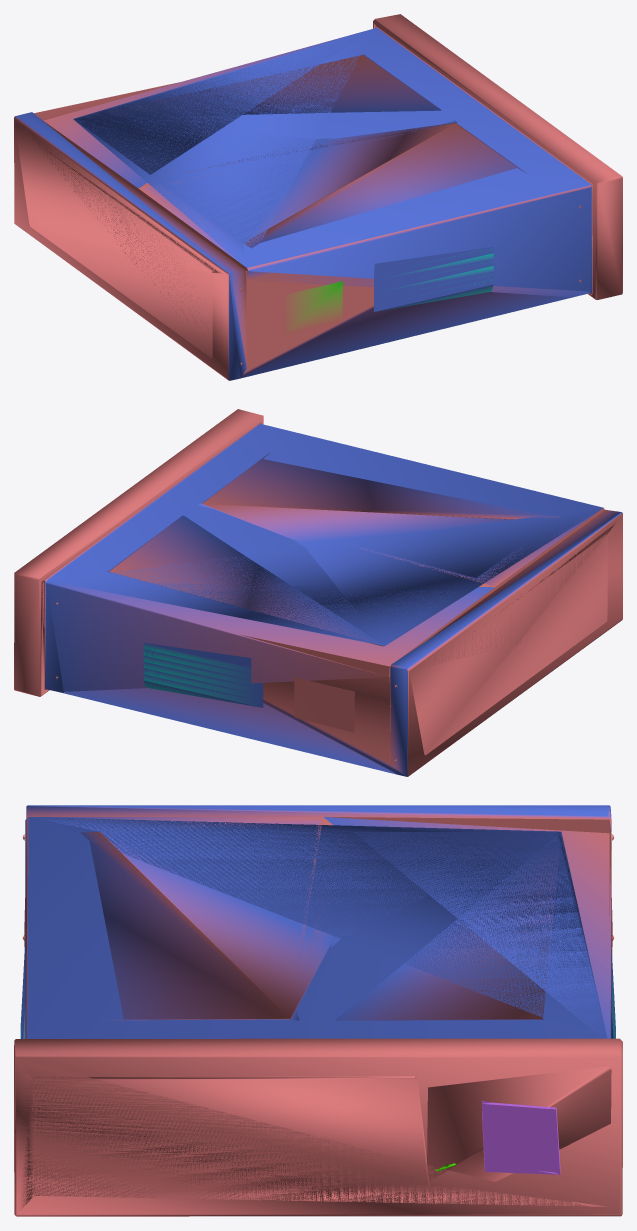
Rendered from MoneyPrinter_LOD4.fbx.
3 renders of one model, top to bottom at view 1: azimuth 30°, elevation 25°; view 2: azimuth 150°, elevation 25°; view 3: azimuth 270°, elevation 25°, orthographic. The views are drawn at different scales.
Visible parts, largest first — view 1: Fluent_Wire.013; view 2: Fluent_Wire.013; view 3: Fluent_Wire.013.
Boxes of the visible parts, x1=… form: Fluent_Wire.013: x1=14, y1=14, x2=622, y2=380; Fluent_Wire.013: x1=14, y1=409, x2=622, y2=776; Fluent_Wire.013: x1=14, y1=805, x2=622, y2=1216.
Size of the model in its own units: 34.67 by 10.02 by 34.23.
